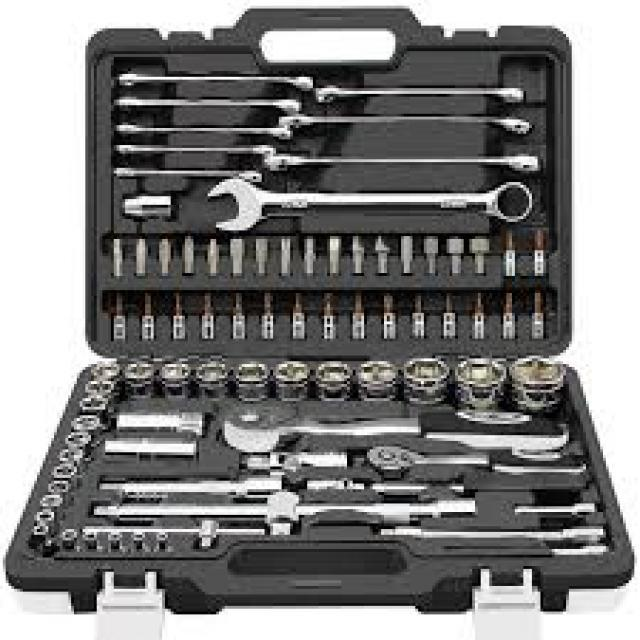wrench: (206, 174, 537, 237), (217, 406, 574, 461), (363, 438, 496, 475)
